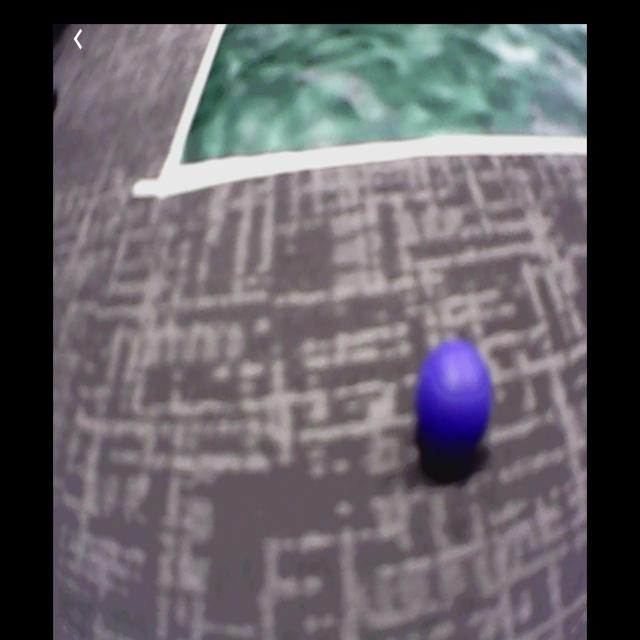ball: (419, 342, 491, 470)
